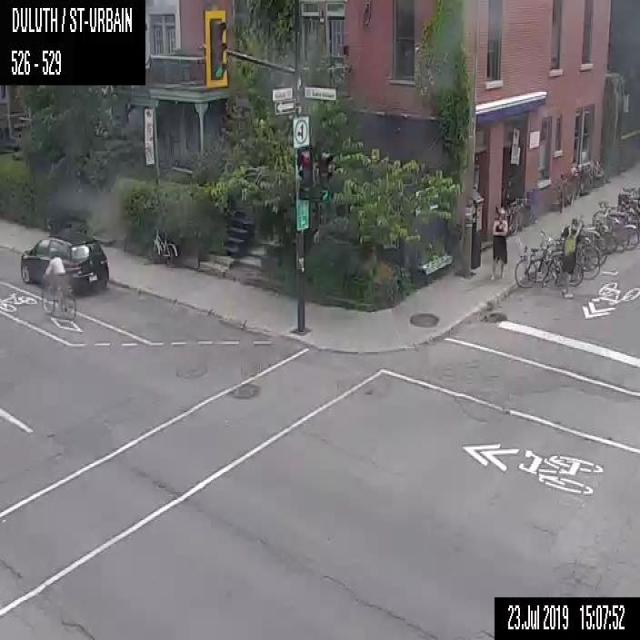cyclist: (41, 253, 76, 318)
pedestrian: (561, 218, 581, 298), (490, 208, 507, 277)
vehicle: (18, 230, 109, 318), (570, 216, 572, 217)
